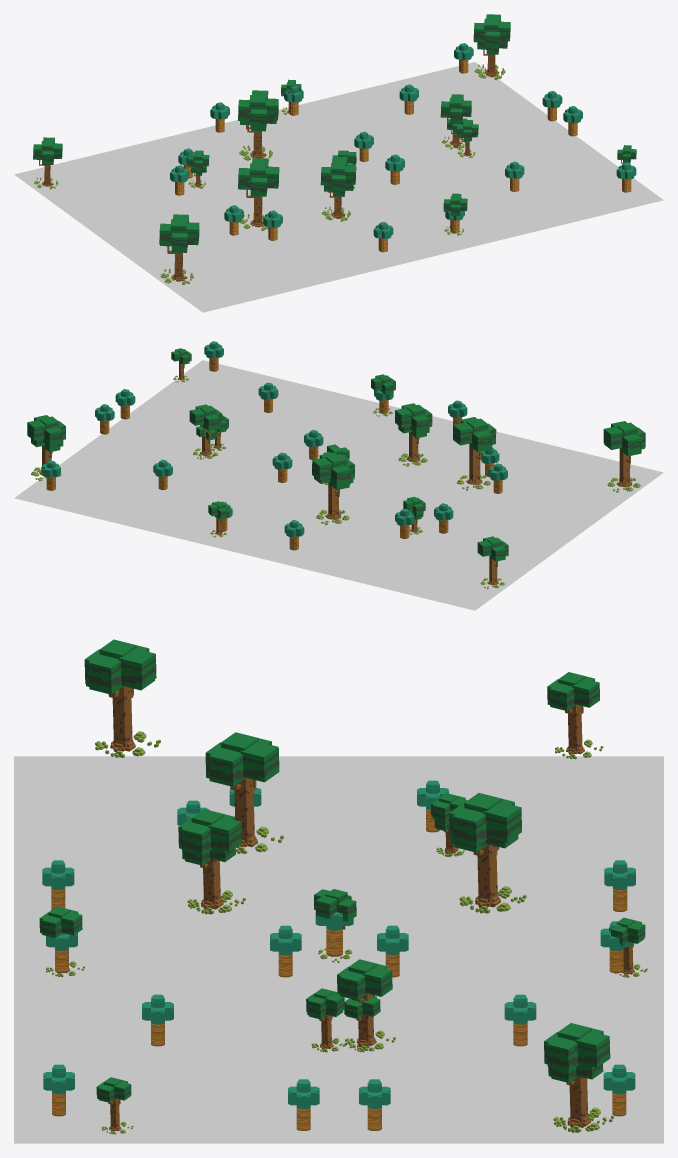
Rendered from savana2.glb.
3 views of the same model, one above another, from view 1: azimuth 30°, elevation 25°; view 2: azimuth 150°, elevation 25°; view 3: azimuth 270°, elevation 25° (orthographic). The views are drawn at different scales.
Parts seen in each view (by area): view 1: Cube; view 2: Cube, VoxelTree (×11); view 3: Cube, VoxelTree (×14).
Part boxes in pixels (x1=…): Cube: x1=14, y1=14, x2=663, y2=312; Cube: x1=14, y1=348, x2=663, y2=610; VoxelTree (×11): x1=41, y1=341, x2=507, y2=550; Cube: x1=14, y1=639, x2=663, y2=1143; VoxelTree (×14): x1=42, y1=780, x2=635, y2=1130.
Size of the model in its own units: 486 by 66.64 by 332.
2 materials, 2 textured.
